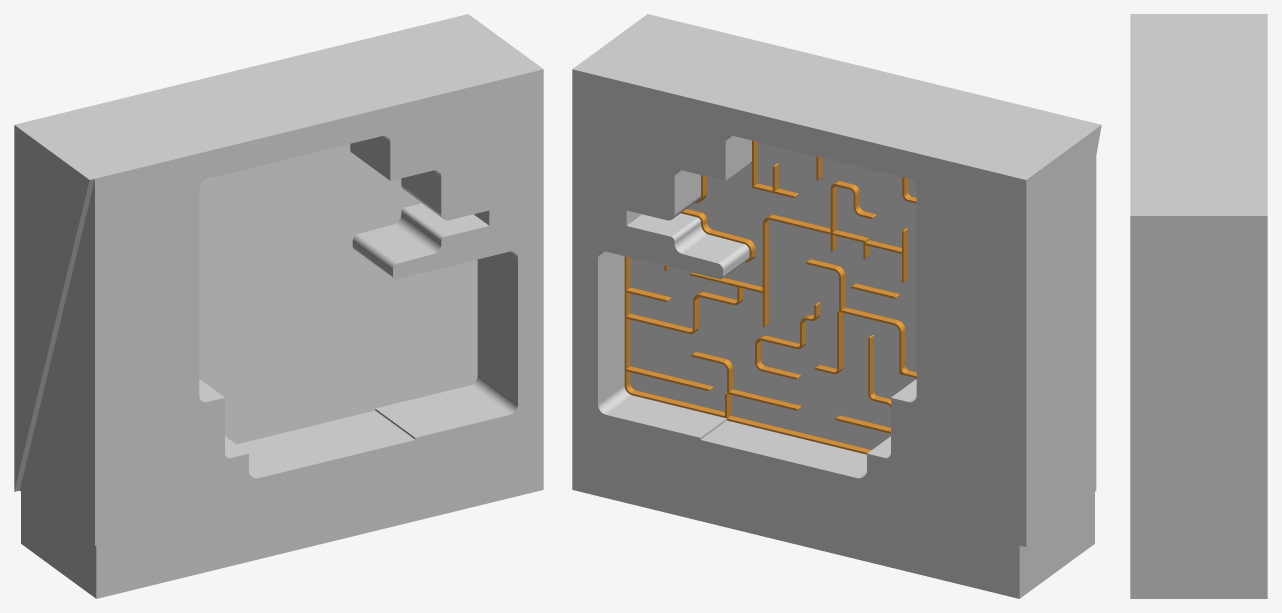
The model's file is laberinto3.fbx.
The picture shows the model from 3 angles, left to right: view 1: azimuth 30°, elevation 25°; view 2: azimuth 150°, elevation 25°; view 3: azimuth 270°, elevation 25°; orthographic projection. The views are drawn at different scales.
Parts seen in each view (by area): view 1: NivL3, Cube; view 2: NivL3, Cube, NivL; view 3: NivL3.
Part boxes in pixels (x1,y1,x2,y2): NivL3: [14, 14, 543, 598]; Cube: [199, 144, 477, 444]; NivL3: [572, 14, 1101, 598]; Cube: [630, 142, 916, 449]; NivL: [624, 140, 916, 454]; NivL3: [1130, 14, 1267, 598].
Bounding box in the file's own units: 116 × 33.5 × 103.
